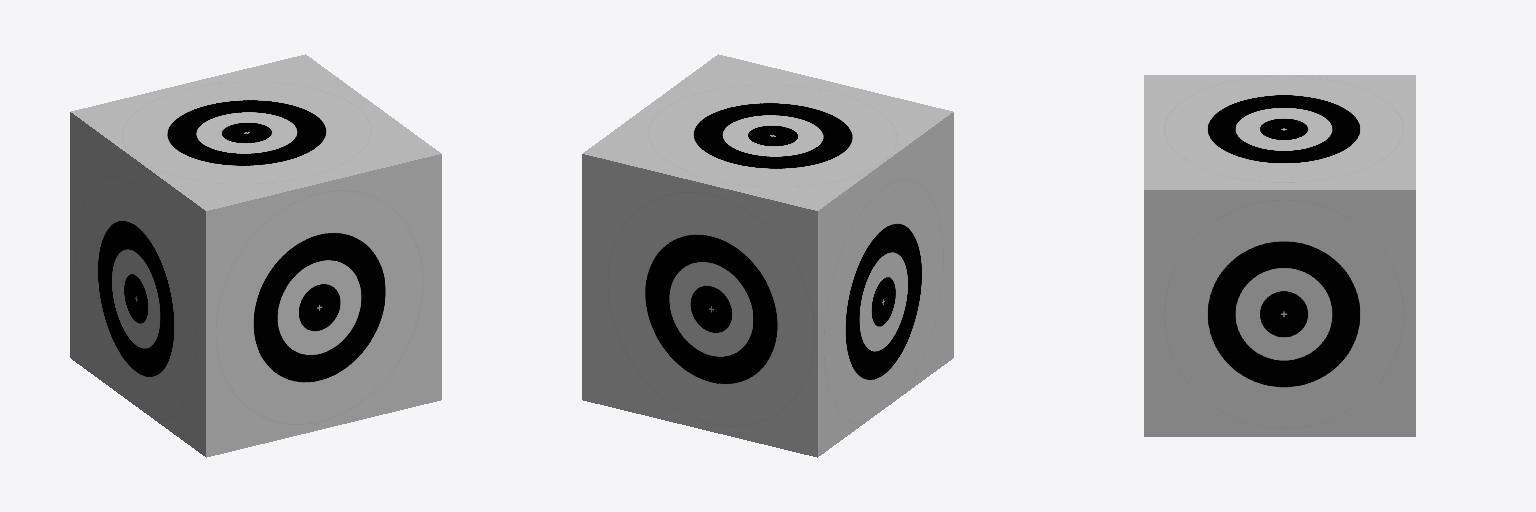
3 views of the same model, side by side, from view 1: azimuth 30°, elevation 25°; view 2: azimuth 150°, elevation 25°; view 3: azimuth 270°, elevation 25° (orthographic).
Visible parts, largest first — view 1: Cube; view 2: Cube; view 3: Cube.
Part boxes in pixels (left/top/right/bottom): Cube: left=70, top=54, right=441, bottom=457; Cube: left=582, top=54, right=953, bottom=457; Cube: left=1144, top=75, right=1415, bottom=436.
Size of the model in its own units: 0.4 by 0.4 by 0.4.
1 materials, 1 textured.